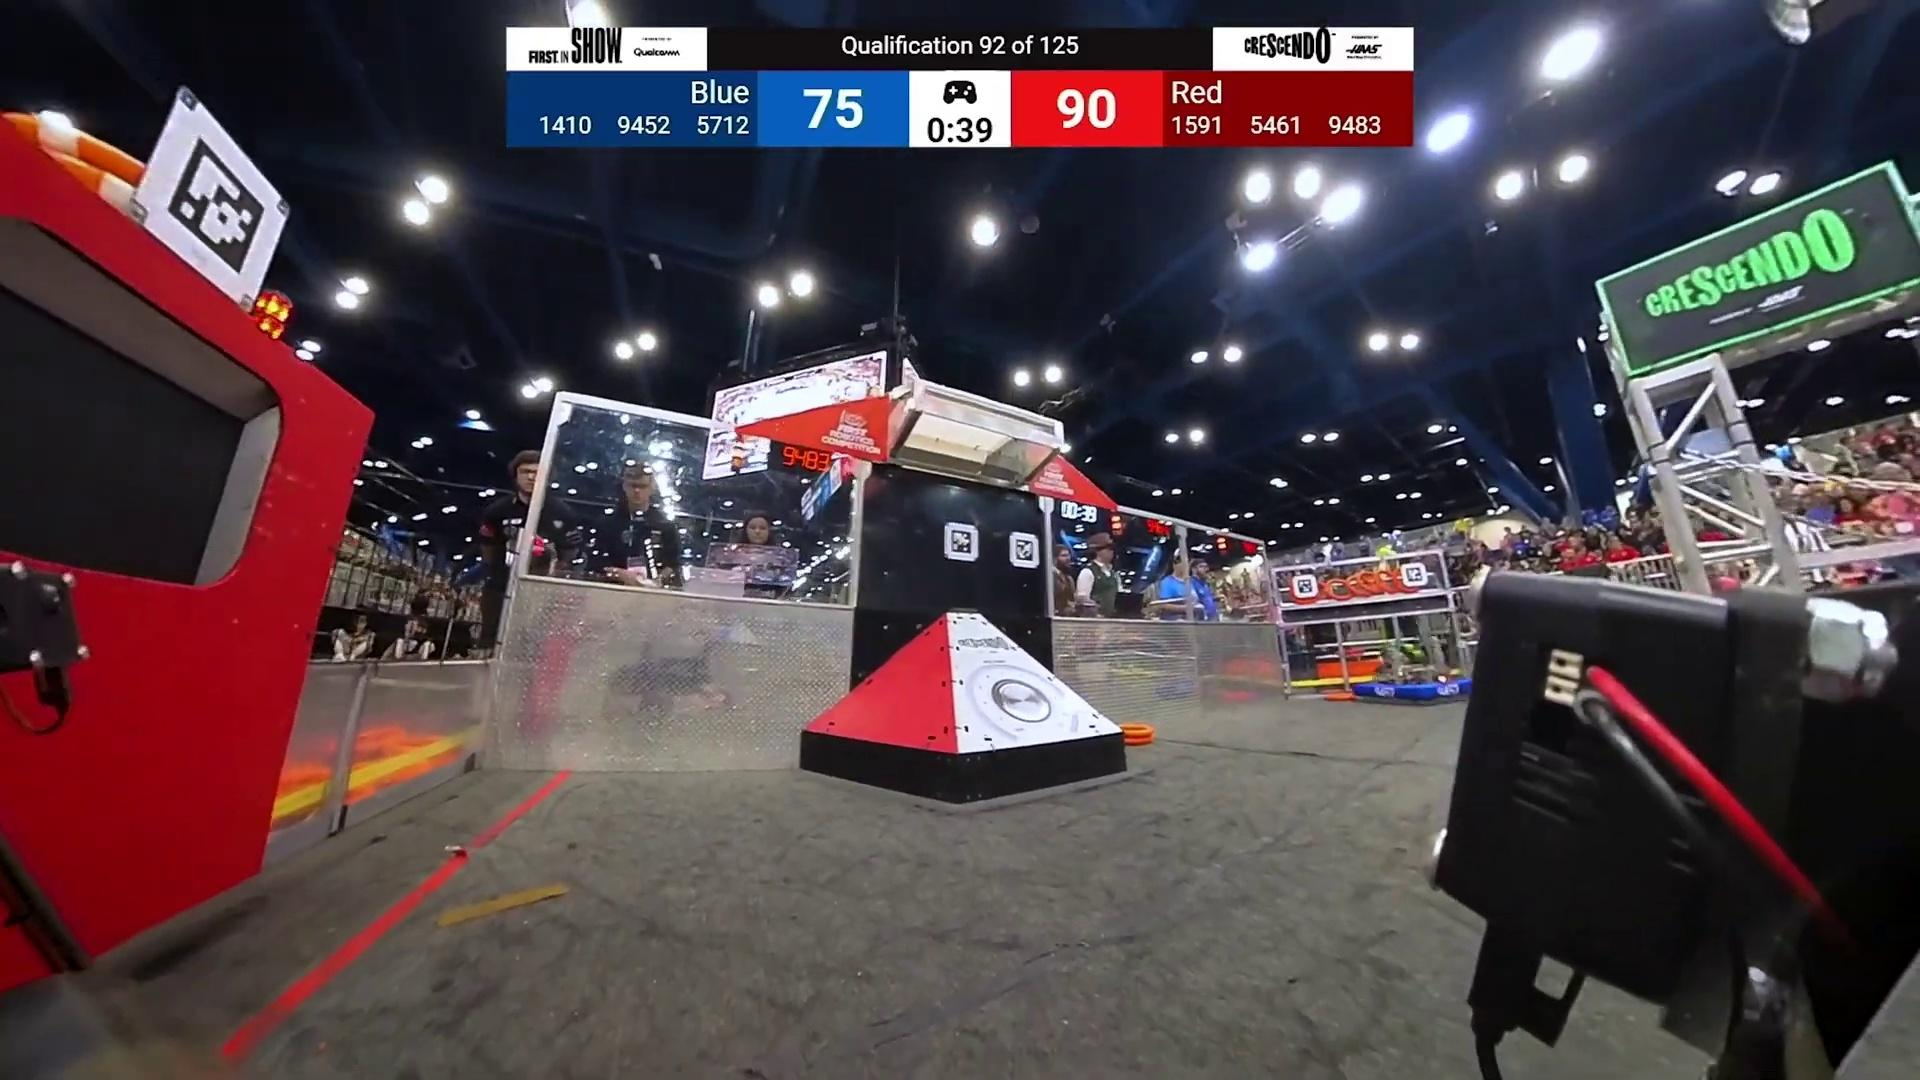robot: (1354, 641, 1472, 703)
